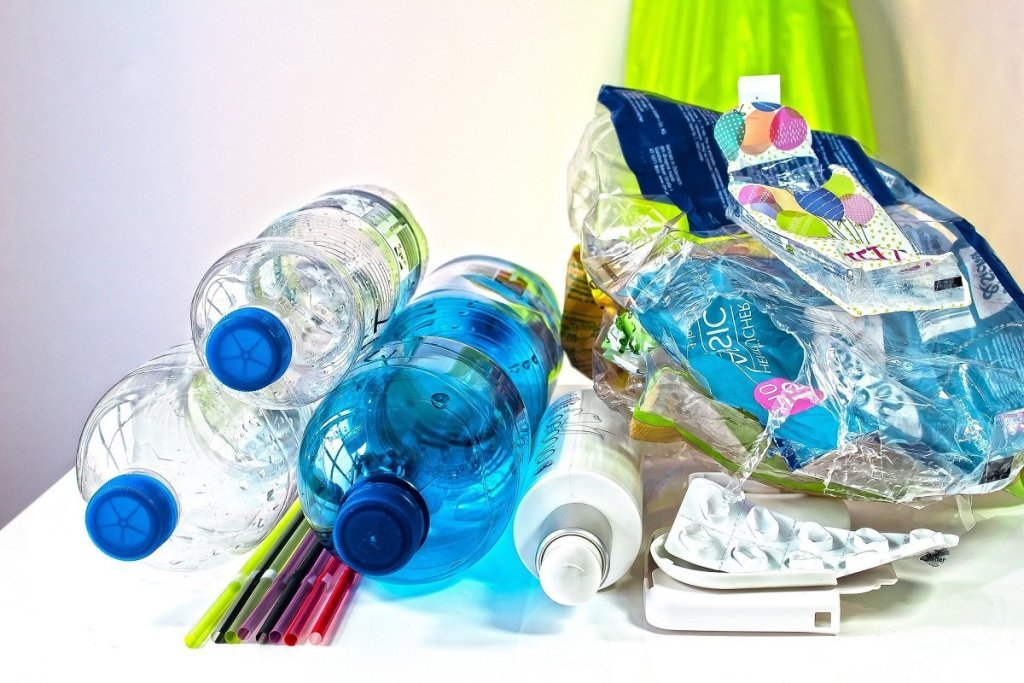plastic_bottle: (189, 160, 689, 683), (453, 183, 741, 683), (144, 61, 501, 457), (48, 244, 348, 631)
